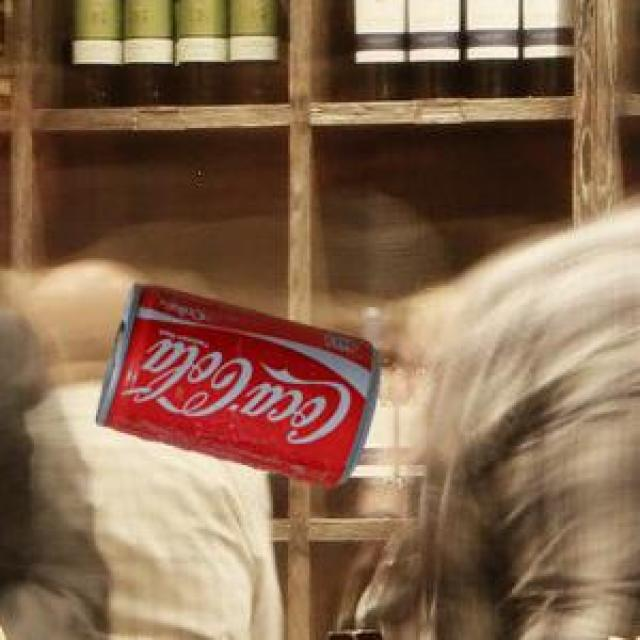logam: (93, 281, 377, 485)
